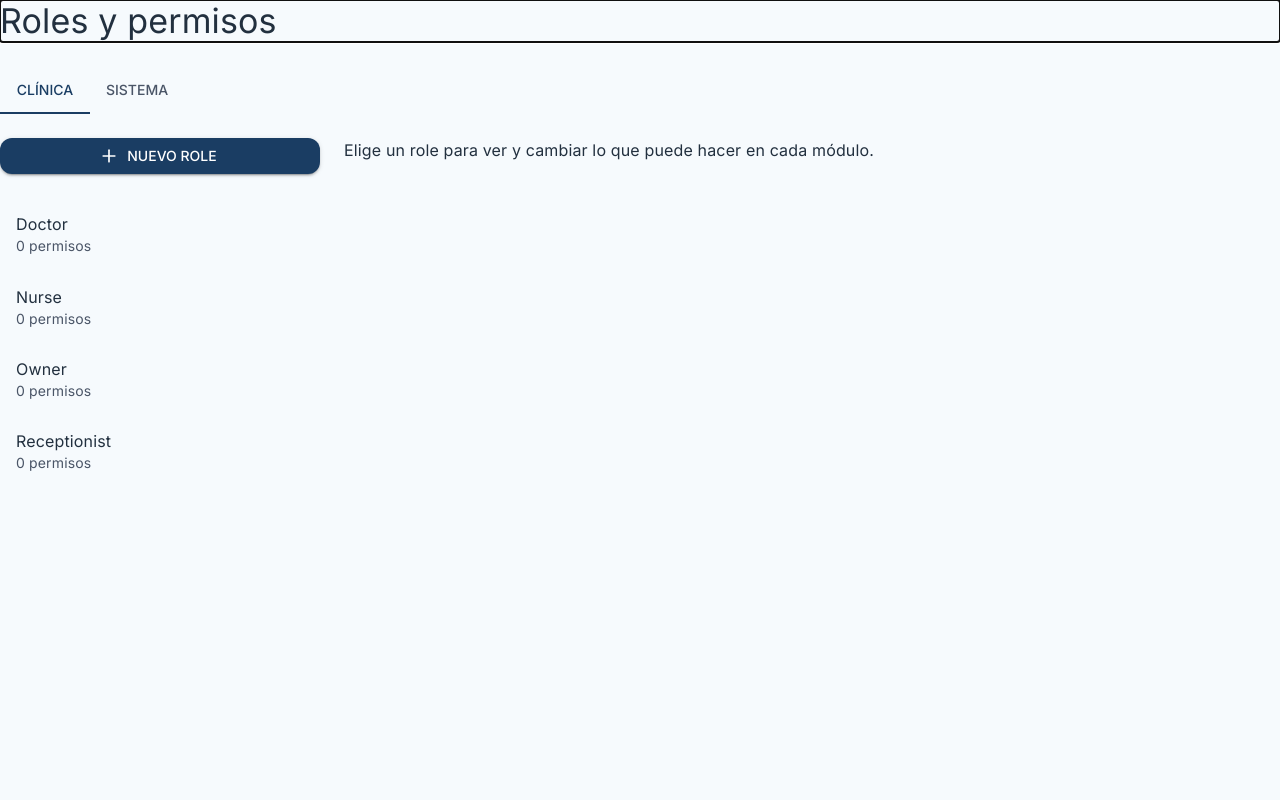
Test case: RolesPage › creating a role (US2, T077) › opens the dialog from "Nuevo role" and, once created, selects it even in a different tab
The width and height of the screenshot is (1280, 800).
Click the button "Nuevo role" at (160, 156), box [0,138,320,174]
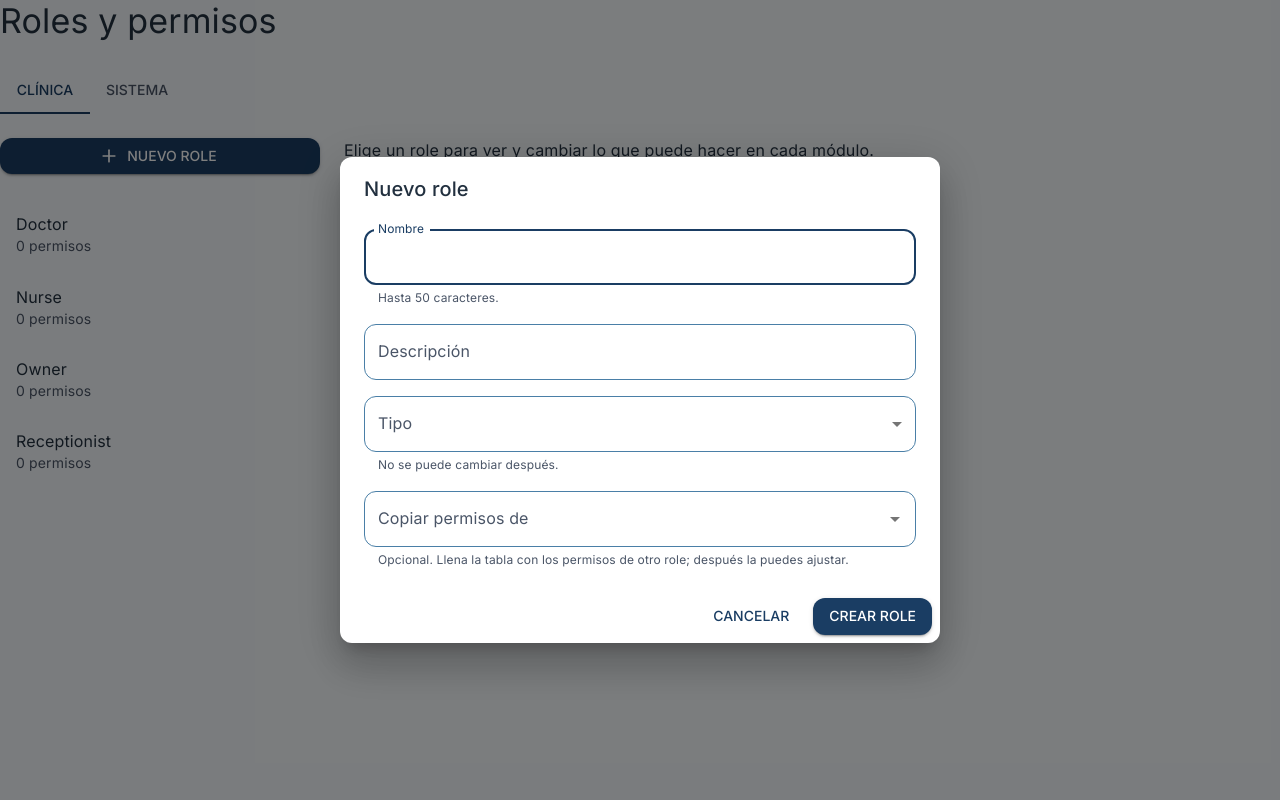
Type "Soporte Nivel 2" into the field labelled "Nombre" at (640, 257), box [364,229,916,285]
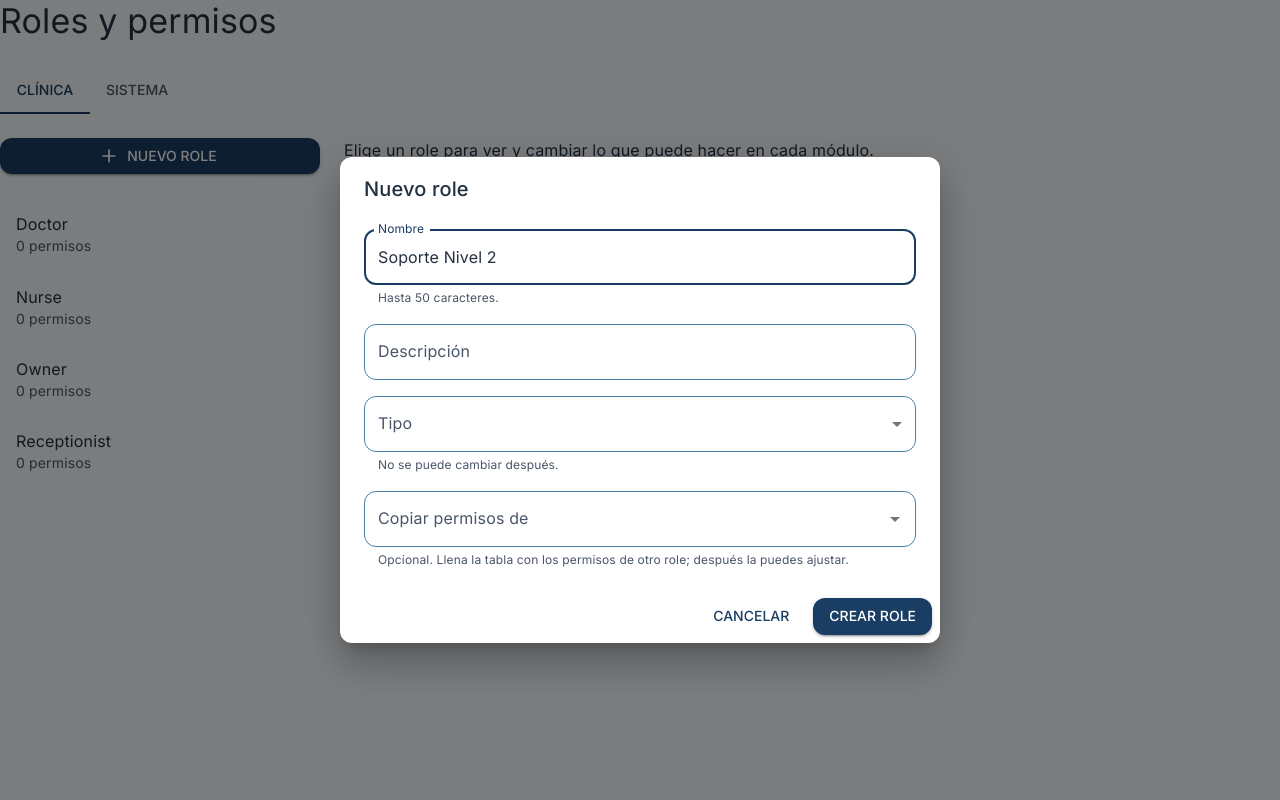
Click the dropdown named "Tipo" at (640, 424), box [364,396,916,452]
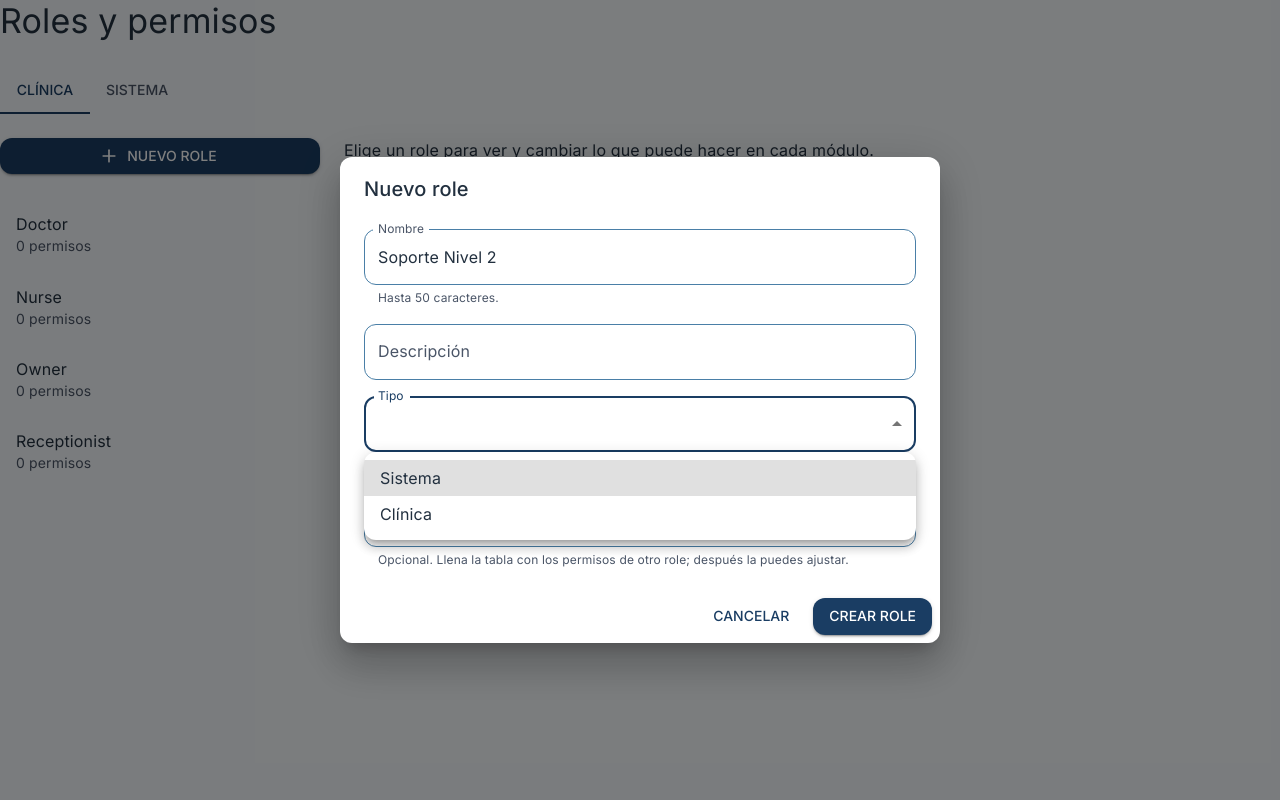
Click the option "Sistema" at (411, 478), box [364,460,916,496]
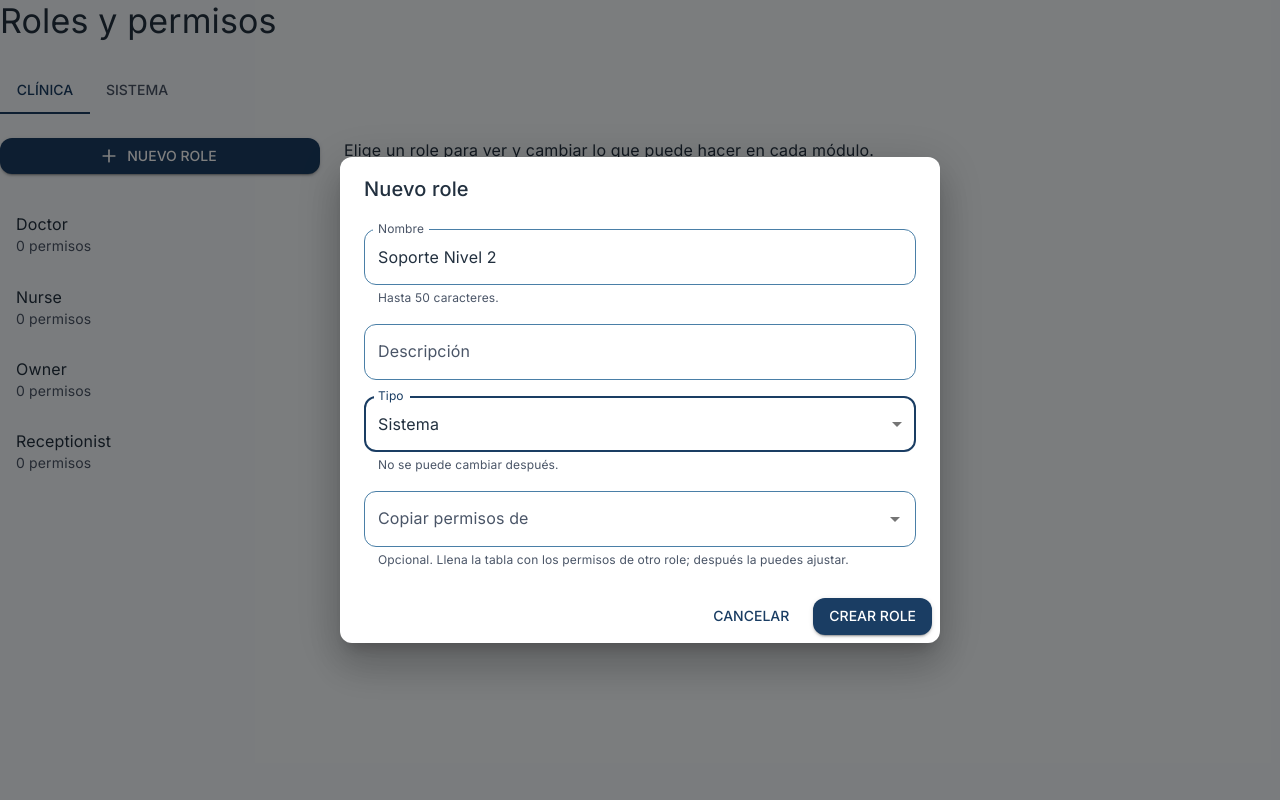
Click the button "Crear role" at (873, 616), box [813,598,932,635]
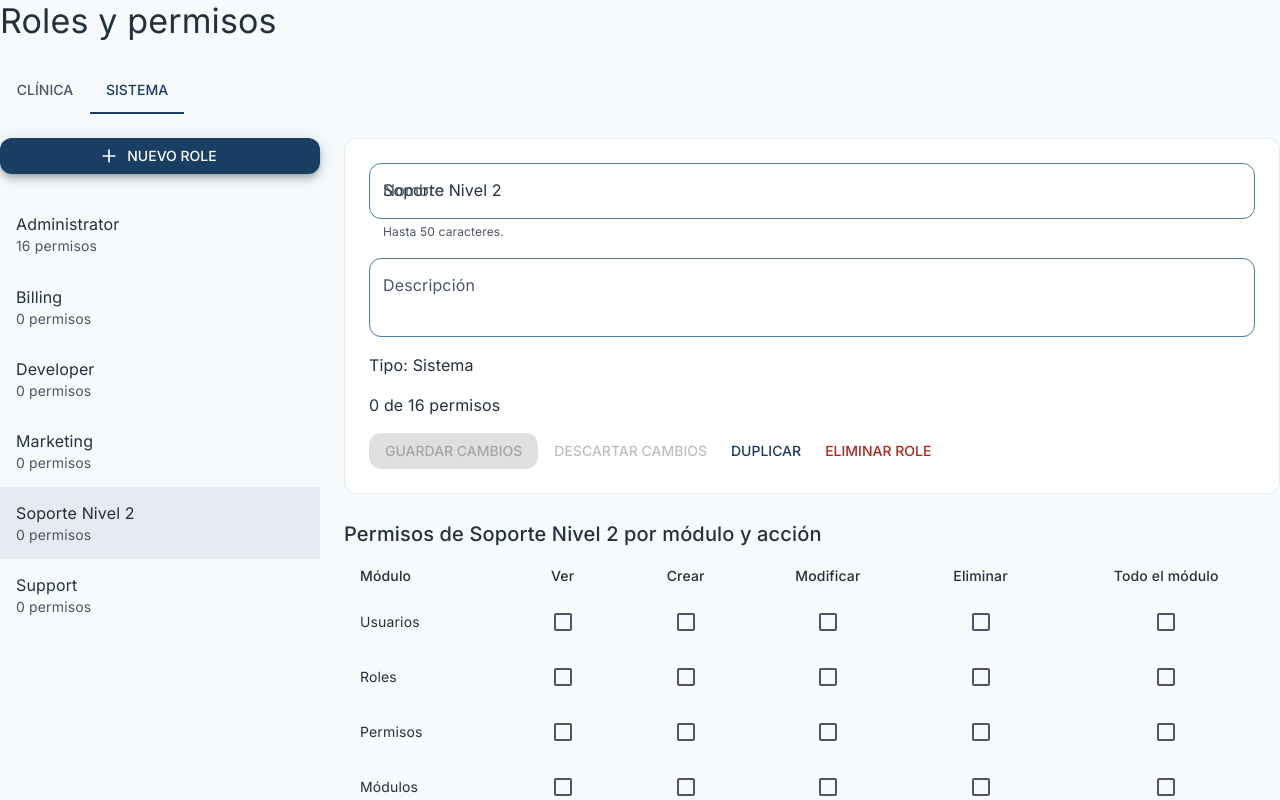
Check: the dialog is gone
Check: the field showing "Soporte Nivel 2" is shown, box [369,163,1255,219]
